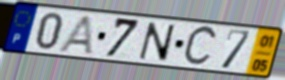0: (34, 11, 66, 51)
7: (103, 16, 142, 59), (220, 28, 253, 71)
A: (56, 14, 95, 57)
C: (181, 24, 220, 70)
N: (137, 21, 177, 64)
